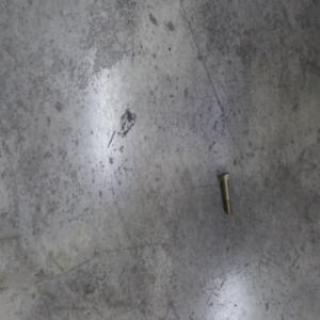Bolttrack_idkeyframe: (216, 168, 230, 214)
